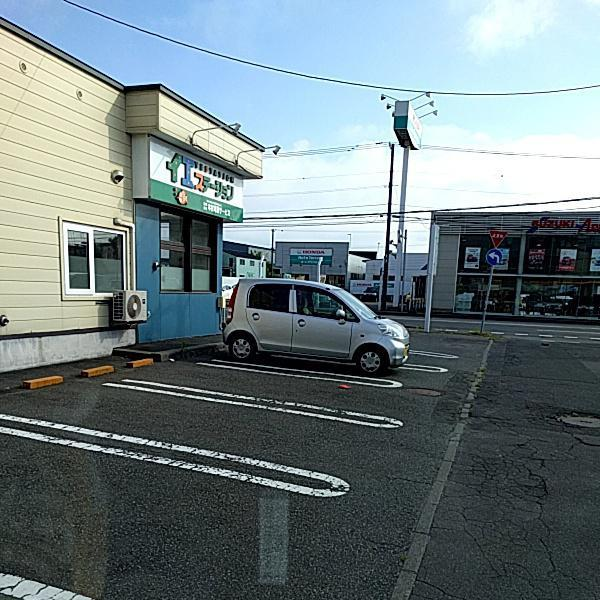D20: (428, 372, 599, 583)
D50: (558, 413, 599, 430), (404, 385, 445, 399)
